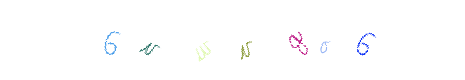6: (134, 0, 214, 80), (323, 0, 403, 80)
G: (217, 0, 297, 80)
O: (258, 0, 338, 80)
V: (154, 0, 234, 80), (192, 0, 272, 80)
W: (178, 0, 258, 80)
